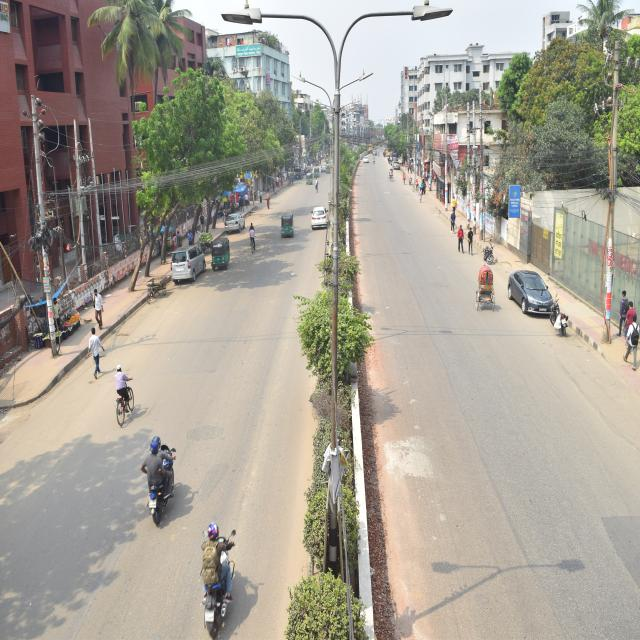car: (504, 260, 568, 320), (307, 200, 332, 237), (221, 208, 246, 236)
microbus: (167, 240, 209, 289)
motorbike: (191, 530, 250, 634), (138, 446, 184, 528), (546, 295, 574, 340), (483, 236, 501, 267)
